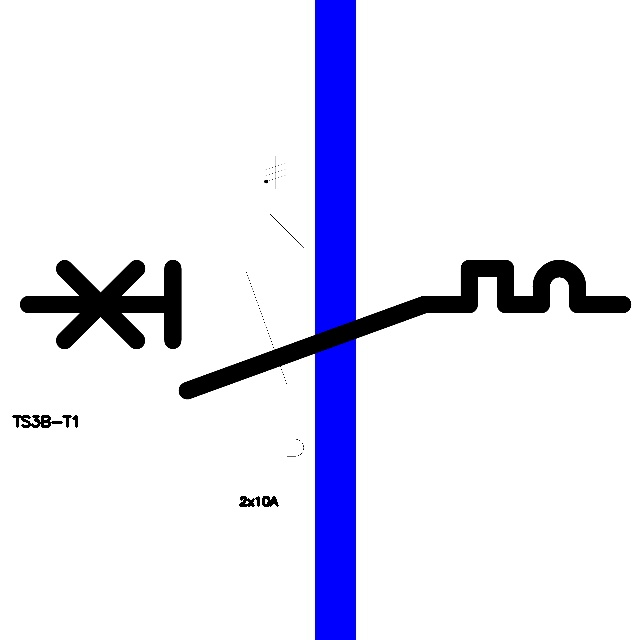interruptor_termomagnetico: (13, 253, 638, 406), (239, 189, 311, 485)
